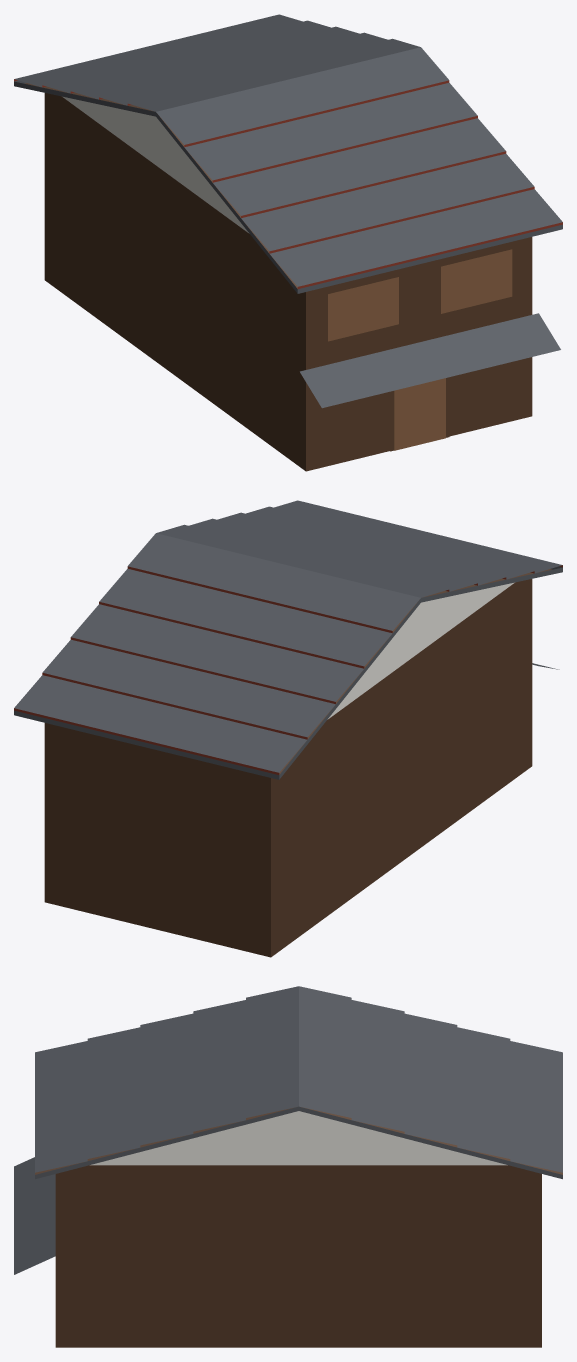
The model's file is machiya.glb.
3 views of the same model, one above another, from view 1: azimuth 30°, elevation 25°; view 2: azimuth 150°, elevation 25°; view 3: azimuth 270°, elevation 25° (orthographic). The views are drawn at different scales.
Parts seen in each view (by area): view 1: machiya; view 2: machiya; view 3: machiya.
Boxes of the visible parts, x1=… form: machiya: x1=14, y1=14, x2=562, y2=471; machiya: x1=14, y1=500, x2=562, y2=957; machiya: x1=14, y1=986, x2=562, y2=1347.
Bounding box in the file's own units: 8.2 × 7.94 × 15.8.
Materials: 1 (1 with a texture image).
